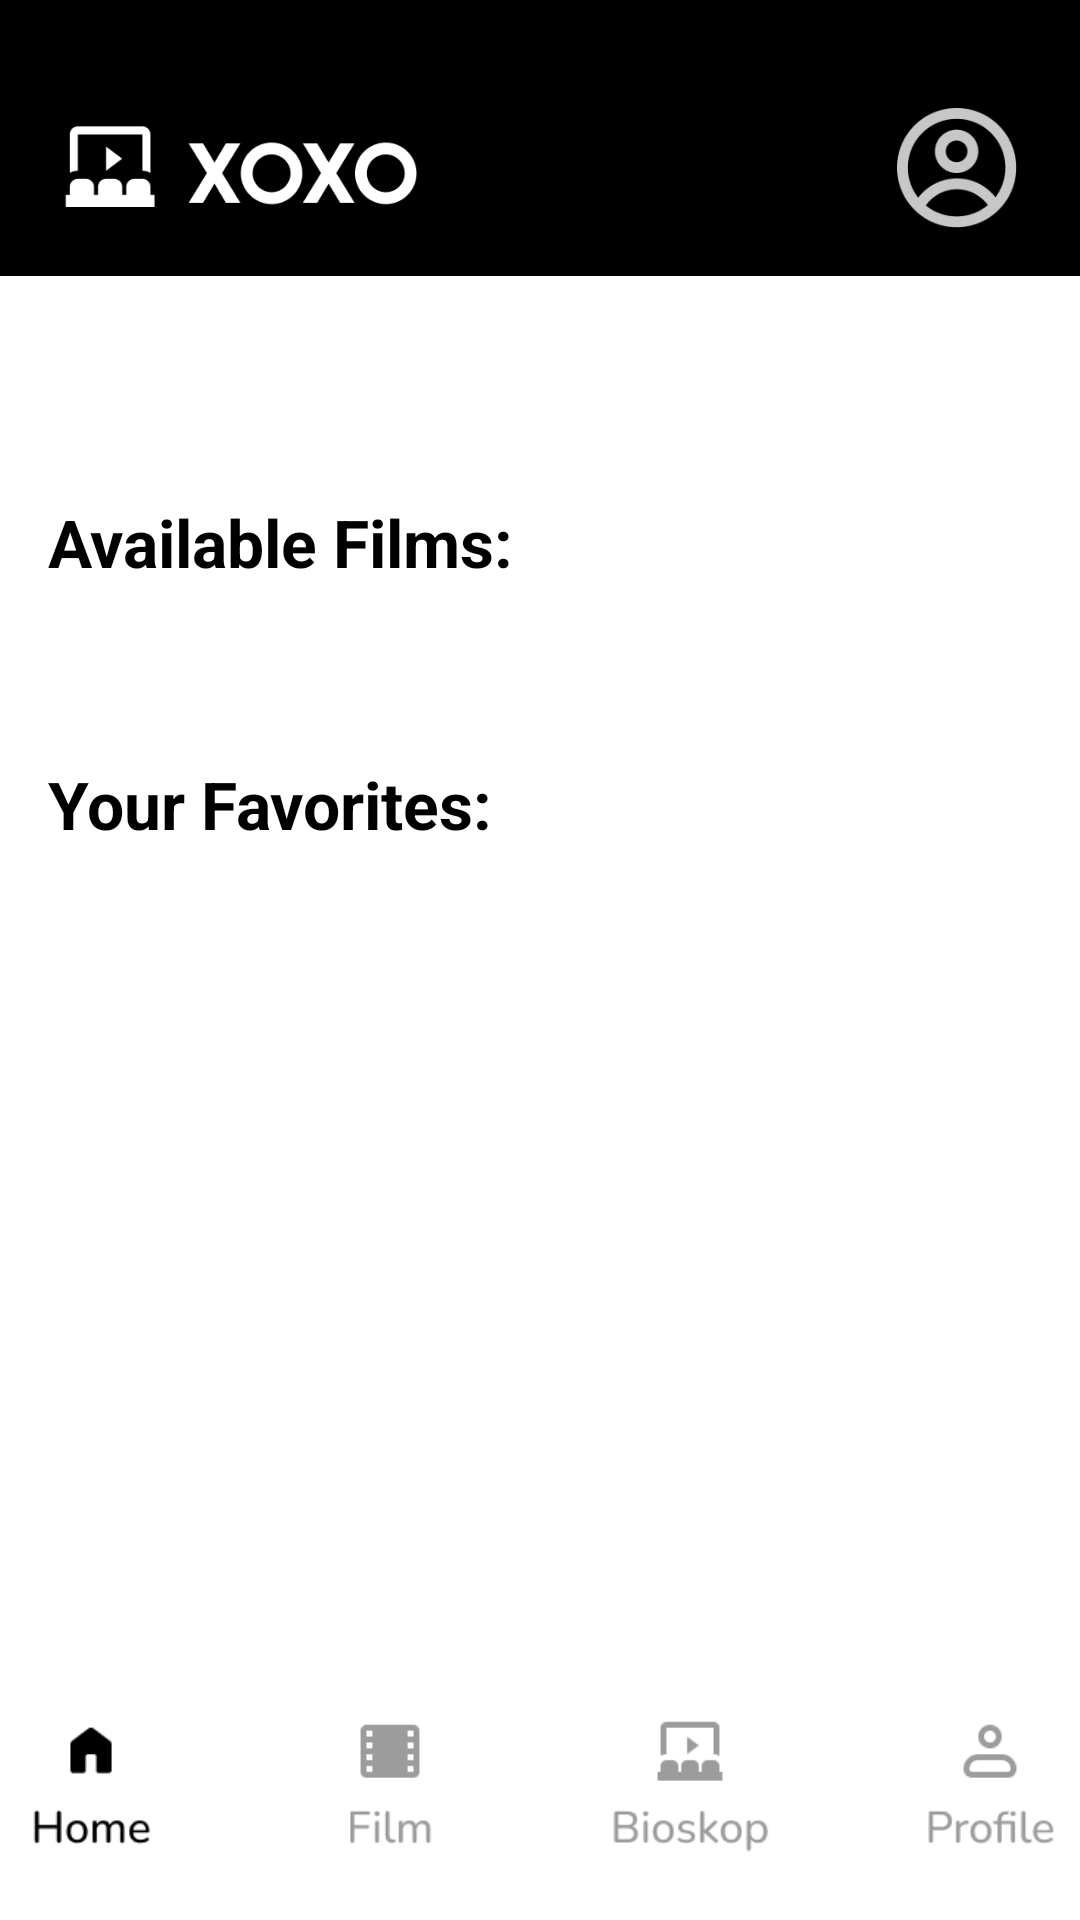

Icons on this 1080px×1920px Android screen, each with its box as (x1, y1, x2, y2):
profile: (897, 108, 1017, 228)
